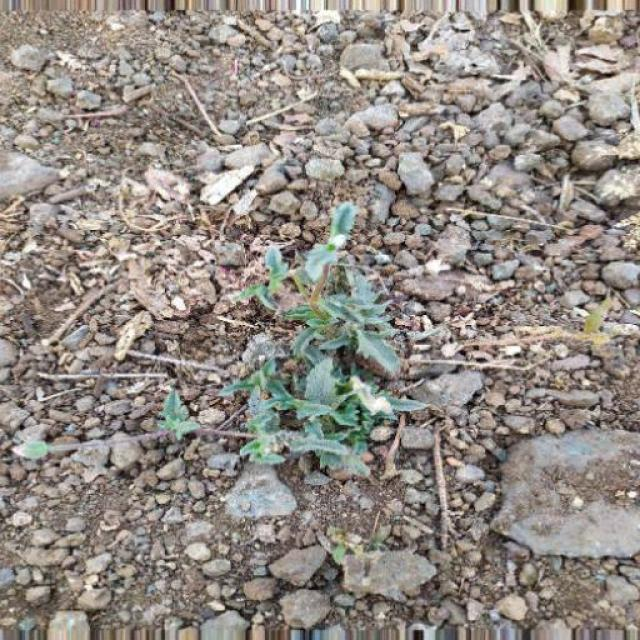weed: (152, 220, 462, 508)
